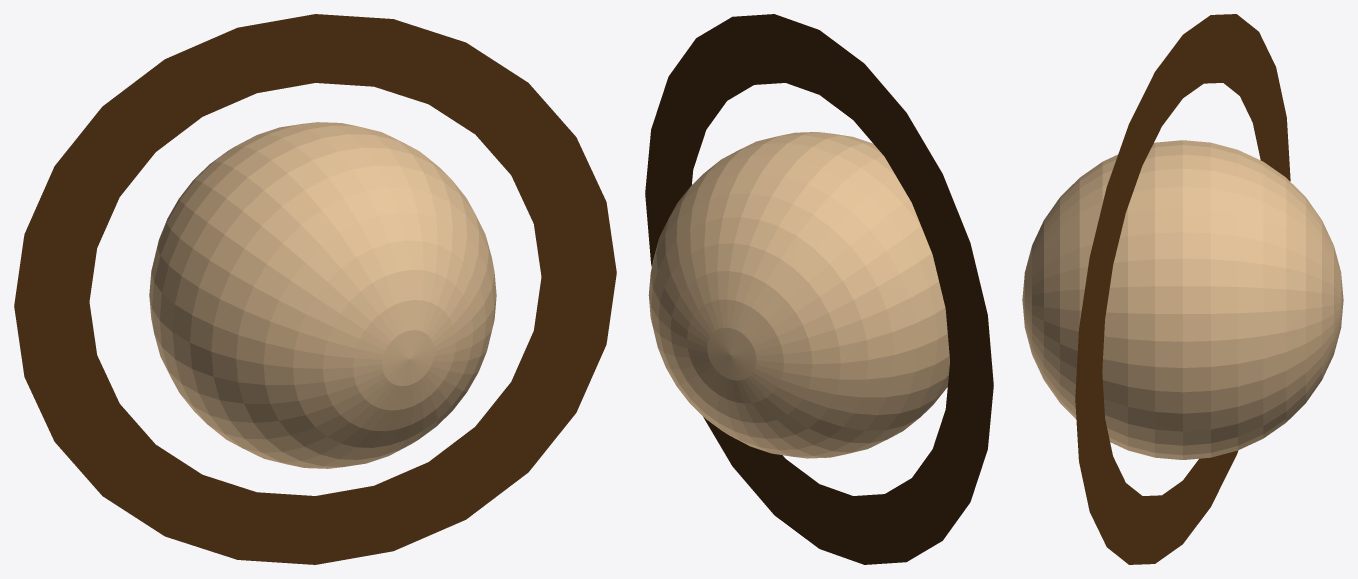
File: tinker.obj
3 views of the same model, side by side, from view 1: azimuth 30°, elevation 25°; view 2: azimuth 150°, elevation 25°; view 3: azimuth 270°, elevation 25° (orthographic). The views are drawn at different scales.
Visible parts, largest first — view 1: group_0_-1033881325, group_0_-1025326955; view 2: group_0_-1025326955, group_0_-1033881325; view 3: group_0_-1025326955, group_0_-1033881325.
Boxes of the visible parts, left/top/right/bottom form: group_0_-1033881325: left=14, top=14, right=616, bottom=564; group_0_-1025326955: left=149, top=122, right=496, bottom=468; group_0_-1025326955: left=648, top=132, right=949, bottom=458; group_0_-1033881325: left=645, top=14, right=993, bottom=564; group_0_-1025326955: left=1022, top=140, right=1343, bottom=459; group_0_-1033881325: left=1075, top=14, right=1290, bottom=564.
Bounding box in the file's own units: 32.34 × 35 × 20.
